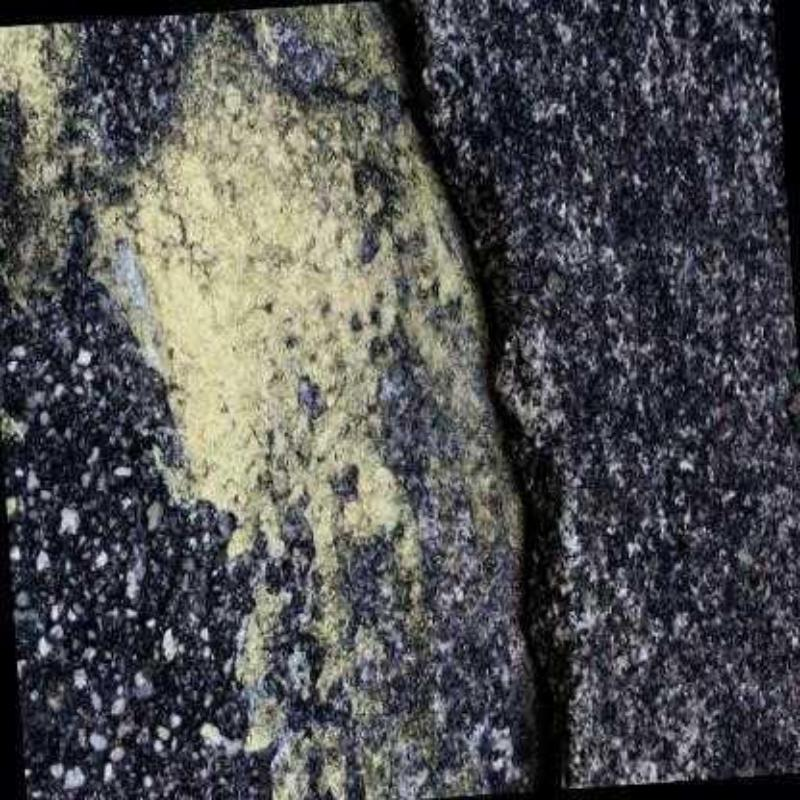pothole: (380, 0, 566, 784)
